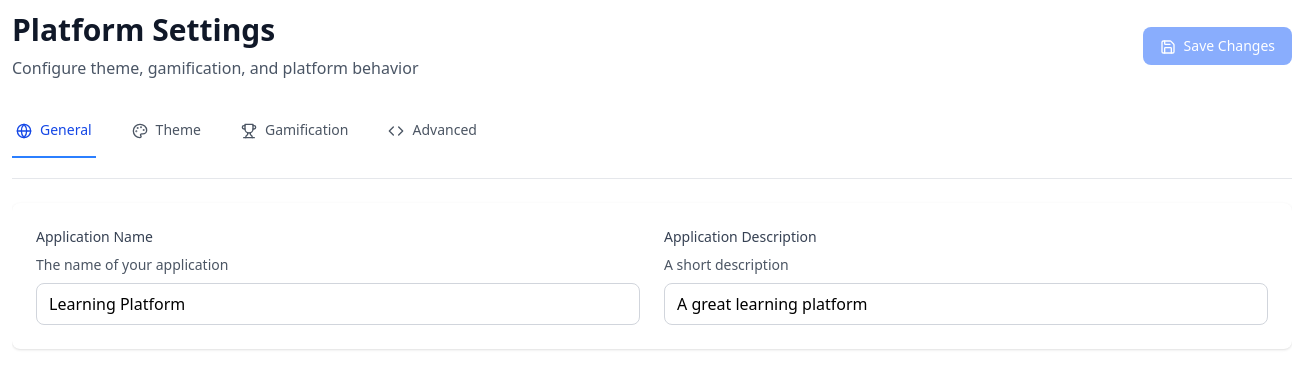
AdminSettingsPanel › Advanced Tab › shows advanced settings when tab is clicked
This screenshot has width=1304, height=367.
Click the tab "Advanced": (433, 131) [384,104,481,158]
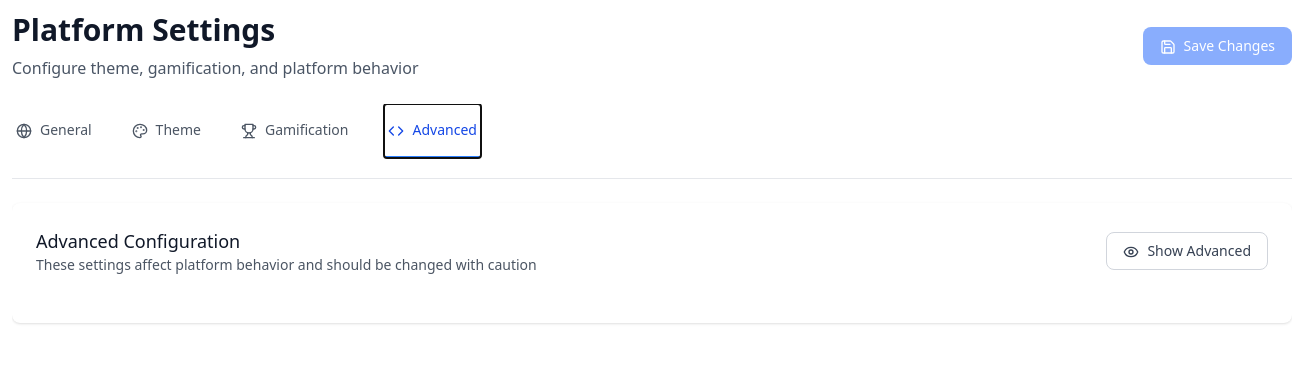
Result: the heading "Advanced Configuration" is shown at [36,229,240,253]
Result: the button "Show Advanced" is shown at [1106,232,1268,270]
